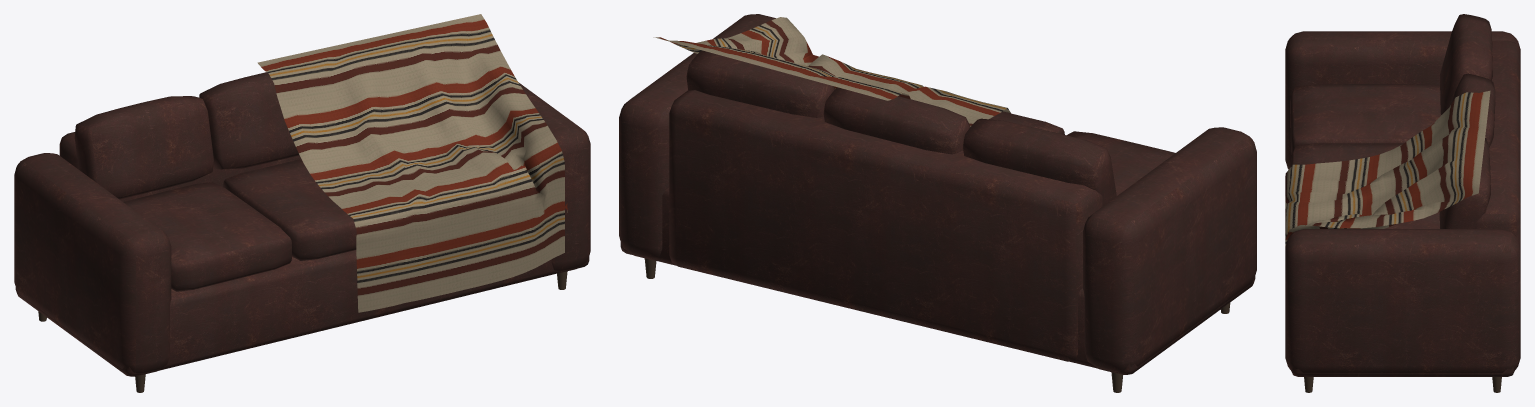
The model's file is couch.glb.
3 views of the same model, side by side, from view 1: azimuth 30°, elevation 25°; view 2: azimuth 150°, elevation 25°; view 3: azimuth 270°, elevation 25° (orthographic). The views are drawn at different scales.
Parts seen in each view (by area): view 1: couch_N23; view 2: couch_N23; view 3: couch_N23.
Part boxes in pixels (x1,y1,x2,y2): couch_N23: (14,14,590,392); couch_N23: (619,14,1256,392); couch_N23: (1285,14,1520,392).
Bounding box in the file's own units: 2 × 0.85 × 0.9.
3 materials, 2 textured.
